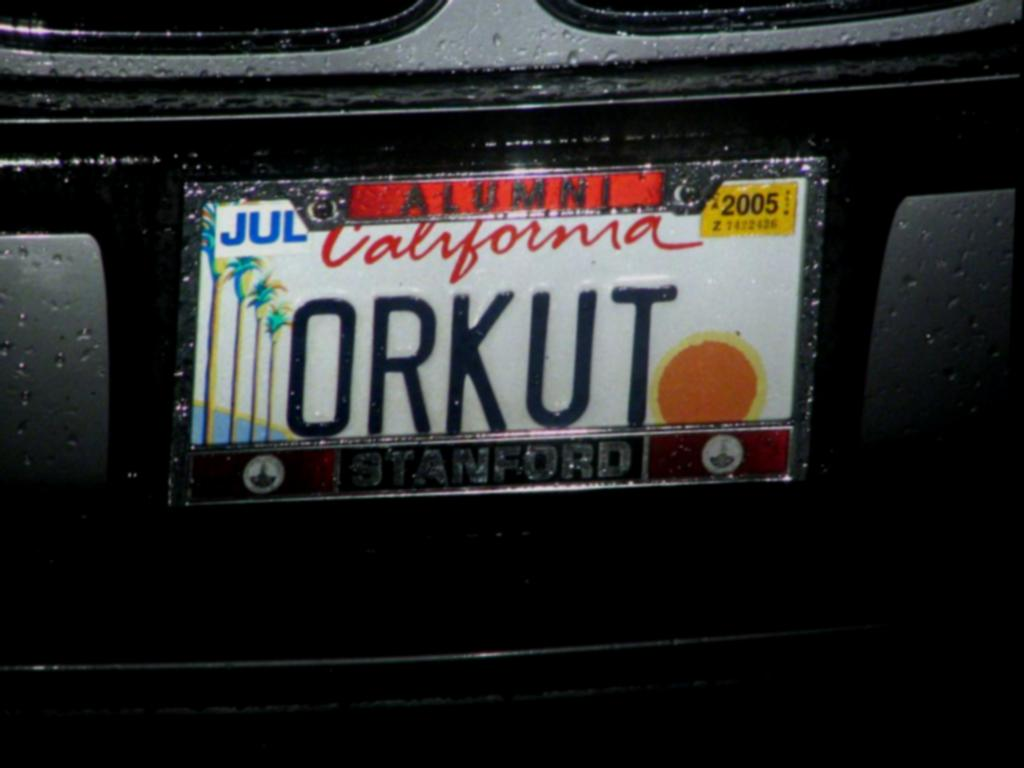License_Plate: (167, 154, 829, 507)
